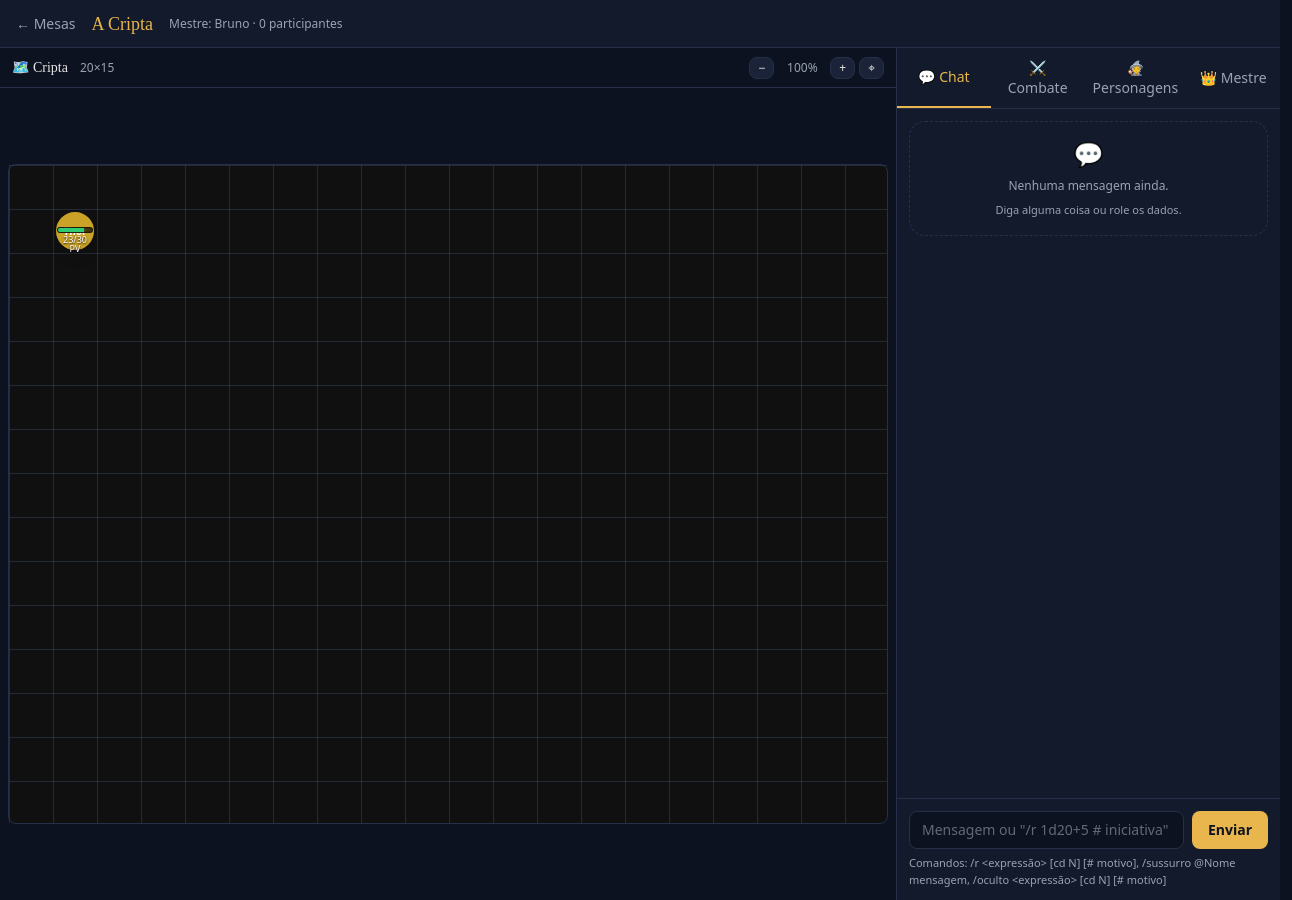
PaginaMesa — a aba de combate tem caminho na tela (RV-063) › fora da luta o mestre recebe o botão de iniciar na mesma aba
Click the button "⚔️ Combate": (1038,78) top-left (991, 48), bottom-right (1085, 108)
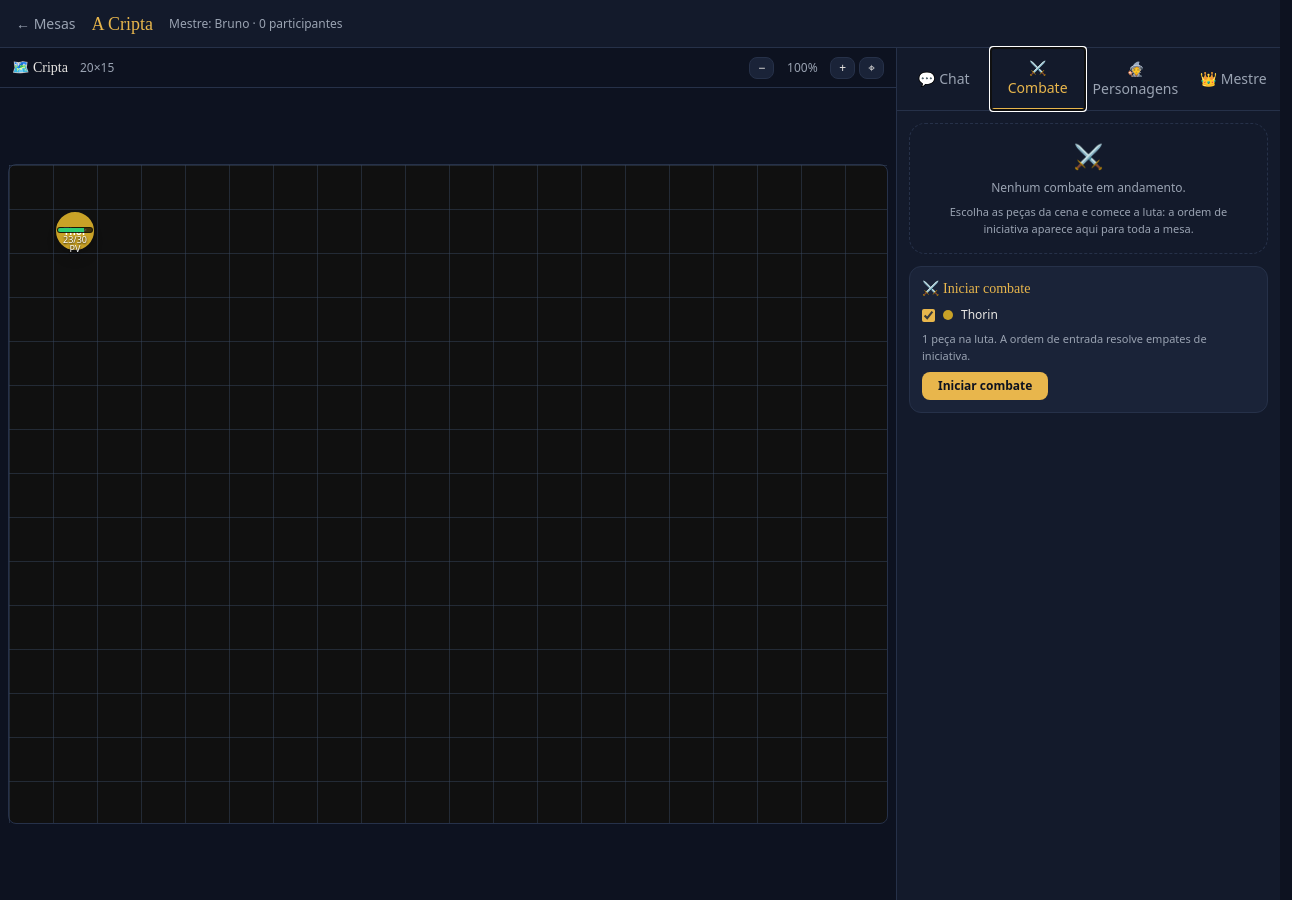
Now the button "Iniciar combate" is shown, box top-left (922, 372), bottom-right (1048, 400)
